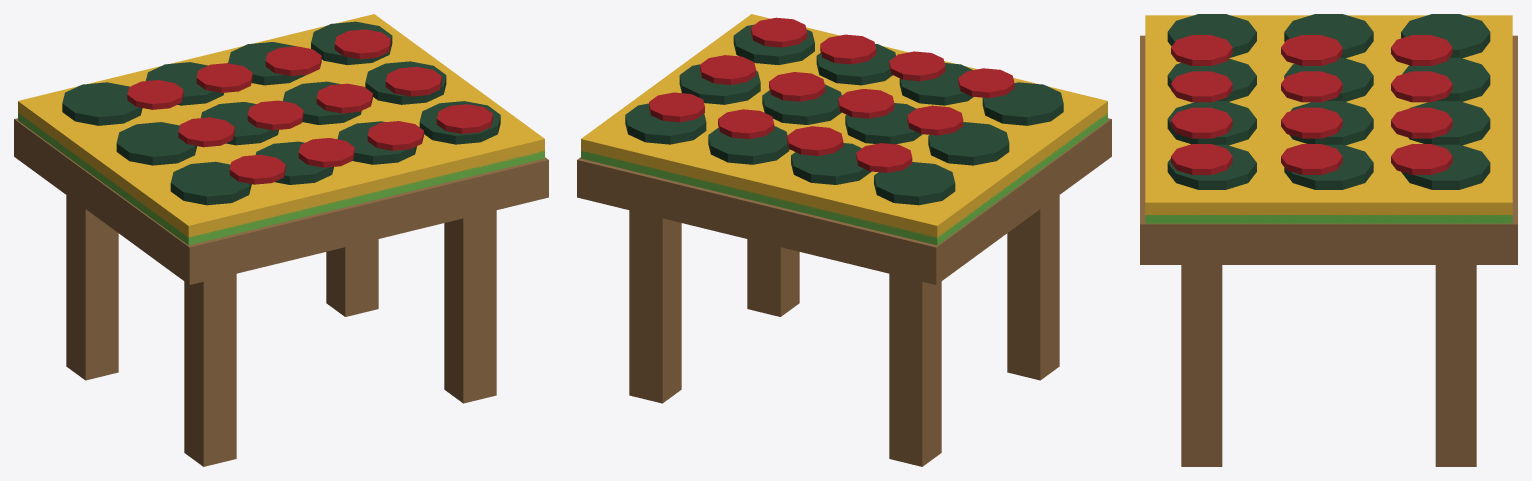
Rendered from good.glb.
The picture shows the model from 3 angles, left to right: view 1: azimuth 30°, elevation 25°; view 2: azimuth 150°, elevation 25°; view 3: azimuth 270°, elevation 25°; orthographic projection. The views are drawn at different scales.
Parts seen in each view (by area): view 1: Leg, Sandwich layer.002, Cucumber slice, Sandwich layer, Sandwich layer.001; view 2: Leg, Sandwich layer.002, Cucumber slice, Sandwich layer, Sandwich layer.001; view 3: Leg, Sandwich layer.002, Cucumber slice, Sandwich layer, Sandwich layer.001.
Boxes of the visible parts, <box> form: Leg: <box>14,118,548,466</box>; Sandwich layer.002: <box>18,14,544,238</box>; Cucumber slice: <box>62,21,500,205</box>; Sandwich layer: <box>127,29,492,184</box>; Sandwich layer.001: <box>18,113,544,245</box>; Leg: <box>577,118,1111,466</box>; Sandwich layer.002: <box>581,14,1107,238</box>; Cucumber slice: <box>625,24,1063,205</box>; Sandwich layer: <box>649,17,1014,172</box>; Sandwich layer.001: <box>581,113,1107,245</box>; Leg: <box>1140,35,1517,466</box>; Sandwich layer.002: <box>1145,15,1512,216</box>; Cucumber slice: <box>1167,14,1490,189</box>; Sandwich layer: <box>1171,35,1452,174</box>; Sandwich layer.001: <box>1145,215,1512,223</box>.
Size of the model in its own units: 1 by 0.7385 by 0.8462.
